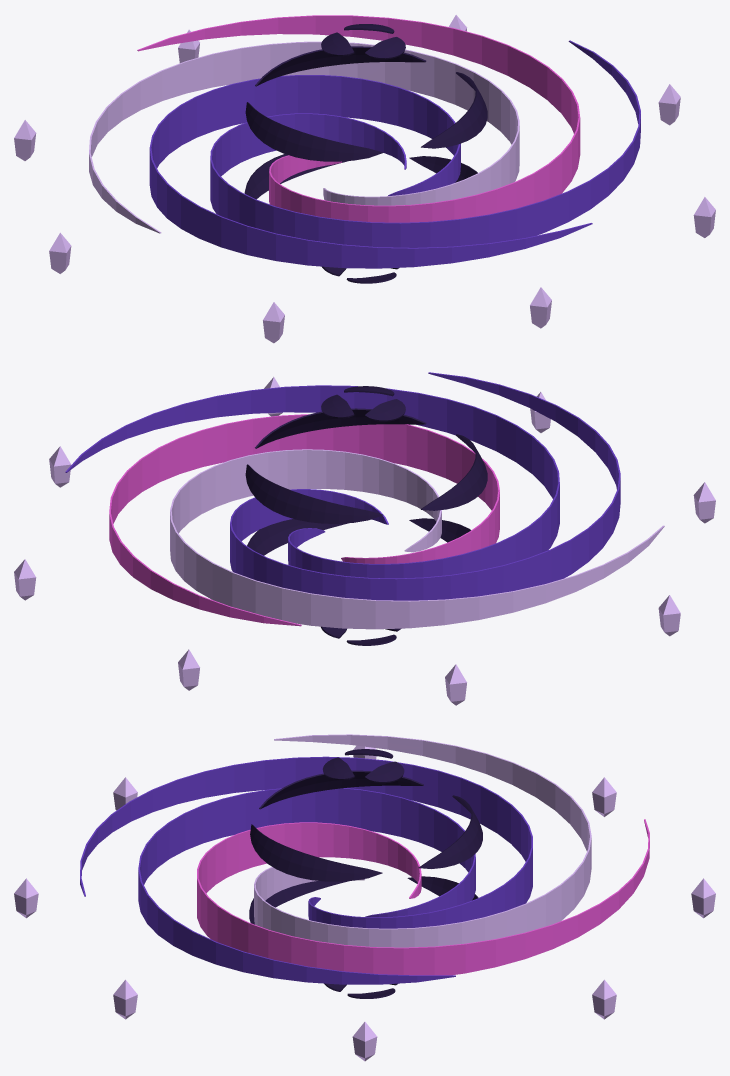
The model's file is VFX_46_CosmicoDiscoAccrescimento.fbx.
3 views of the same model, one above another, from view 1: azimuth 30°, elevation 25°; view 2: azimuth 150°, elevation 25°; view 3: azimuth 270°, elevation 25° (orthographic). The views are drawn at different scales.
Parts seen in each view (by area): view 1: VFX_46_CosmicoDiscoAccrescimento; view 2: VFX_46_CosmicoDiscoAccrescimento; view 3: VFX_46_CosmicoDiscoAccrescimento.
Part boxes in pixels (bbox=[...]): VFX_46_CosmicoDiscoAccrescimento: bbox=[14, 15, 715, 343]; VFX_46_CosmicoDiscoAccrescimento: bbox=[14, 372, 715, 705]; VFX_46_CosmicoDiscoAccrescimento: bbox=[14, 734, 715, 1061].
Bounding box in the file's own units: 394 × 139 × 394.
1 material, 1 textured.
